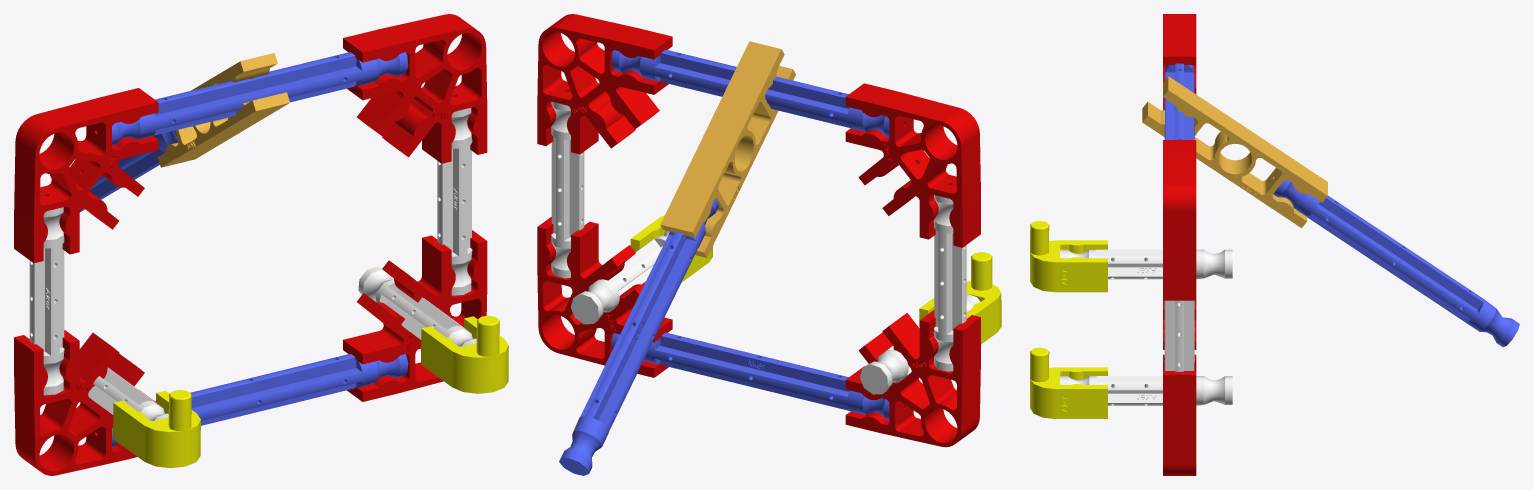
File: Card.glb
3 renders of one model, left to right at view 1: azimuth 30°, elevation 25°; view 2: azimuth 150°, elevation 25°; view 3: azimuth 270°, elevation 25°, orthographic. The views are drawn at different scales.
Visible parts, largest first — view 1: Tarjetero; view 2: Tarjetero; view 3: Tarjetero.
Part boxes in pixels (box(x1,y1,x2,y2)): Tarjetero: box(14, 14, 508, 475); Tarjetero: box(537, 14, 1001, 475); Tarjetero: box(1030, 14, 1519, 475).
Bounding box in the file's own units: 5.53 × 4.28 × 6.16.
